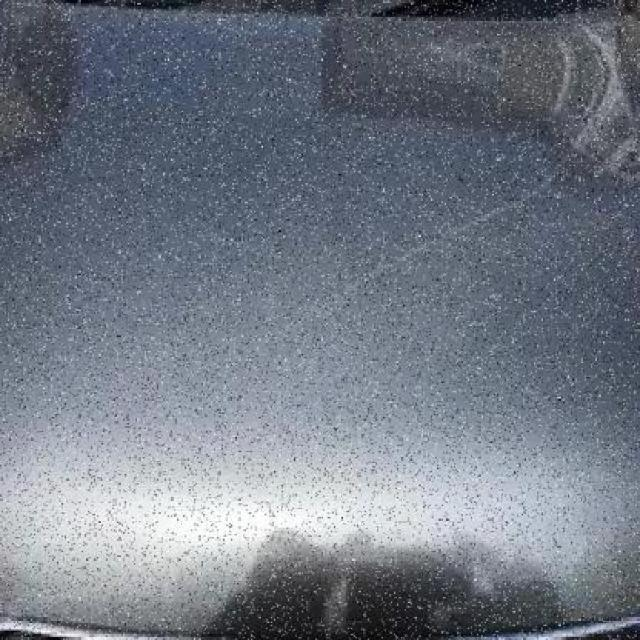bonnet-dent: (0, 3, 638, 637)
